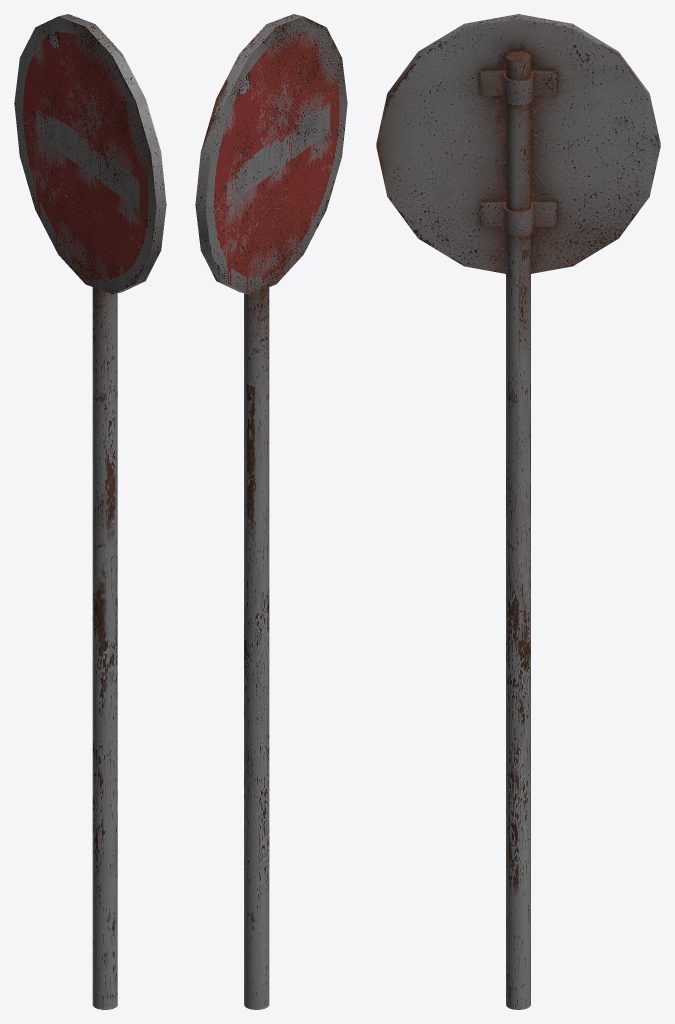
Rendered from Stop.fbx.
3 views of the same model, side by side, from view 1: azimuth 30°, elevation 25°; view 2: azimuth 150°, elevation 25°; view 3: azimuth 270°, elevation 25° (orthographic).
Visible parts, largest first — view 1: Stop; view 2: Stop; view 3: Stop.
Part boxes in pixels (left/top/right/bottom): Stop: left=14, top=14, right=166, bottom=1009; Stop: left=195, top=14, right=347, bottom=1009; Stop: left=376, top=14, right=660, bottom=1009.
Bounding box in the file's own units: 0.0986 × 2.82 × 0.739.
